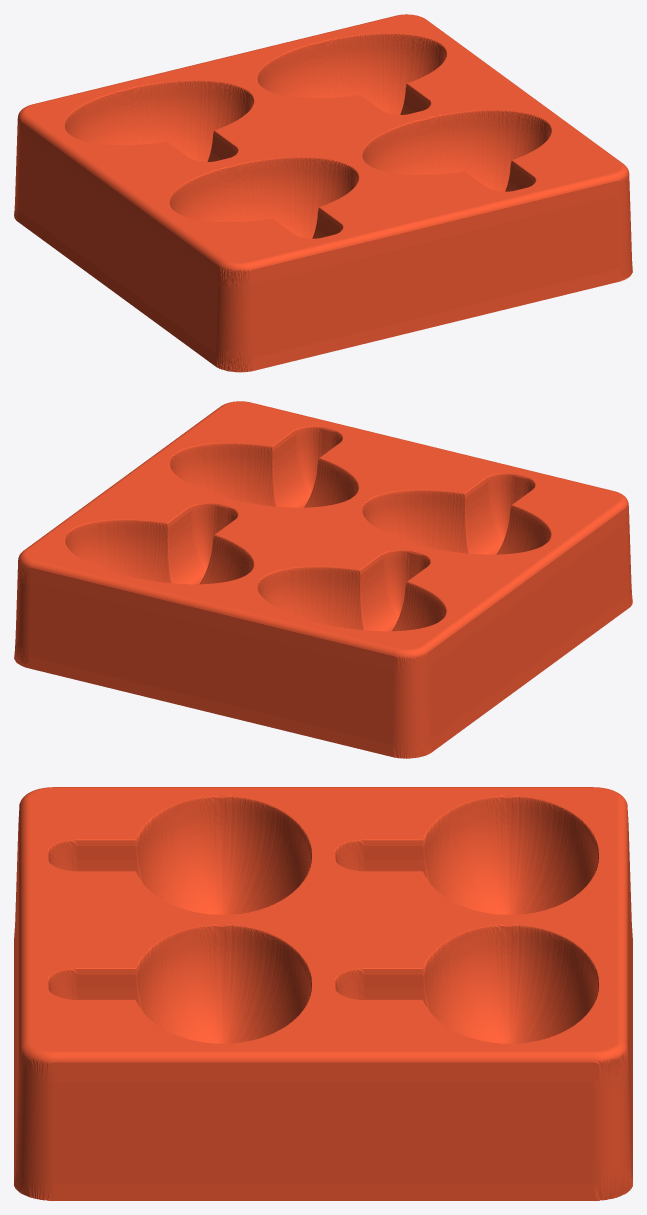
The model's file is mold.glb.
3 renders of one model, top to bottom at view 1: azimuth 30°, elevation 25°; view 2: azimuth 150°, elevation 25°; view 3: azimuth 270°, elevation 25°, orthographic. The views are drawn at different scales.
Parts seen in each view (by area): view 1: geometry_0; view 2: geometry_0; view 3: geometry_0.
Part boxes in pixels (x1=…): geometry_0: x1=14, y1=14, x2=632, y2=372; geometry_0: x1=14, y1=401, x2=632, y2=758; geometry_0: x1=14, y1=787, x2=632, y2=1200.
Bounding box in the file's own units: 0.1493 × 0.036 × 0.1412.
